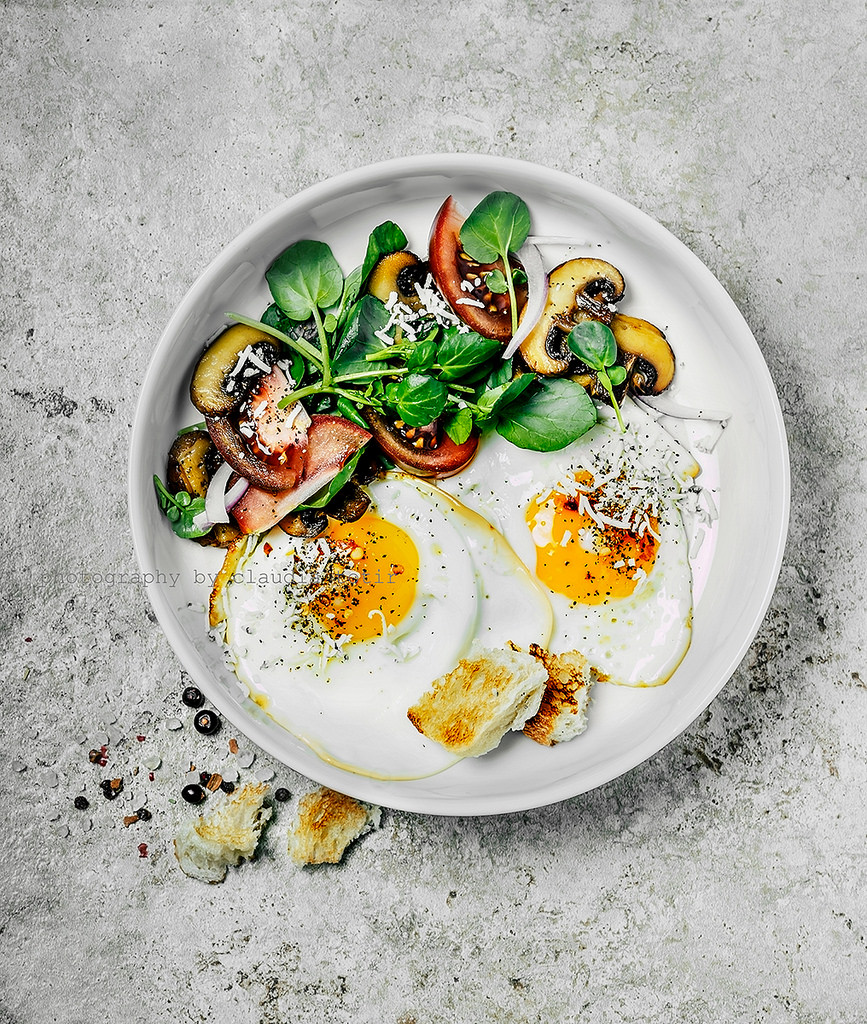chopped lettuce: (287, 281, 461, 407)
fried egg: (500, 470, 716, 666), (231, 534, 524, 670)
